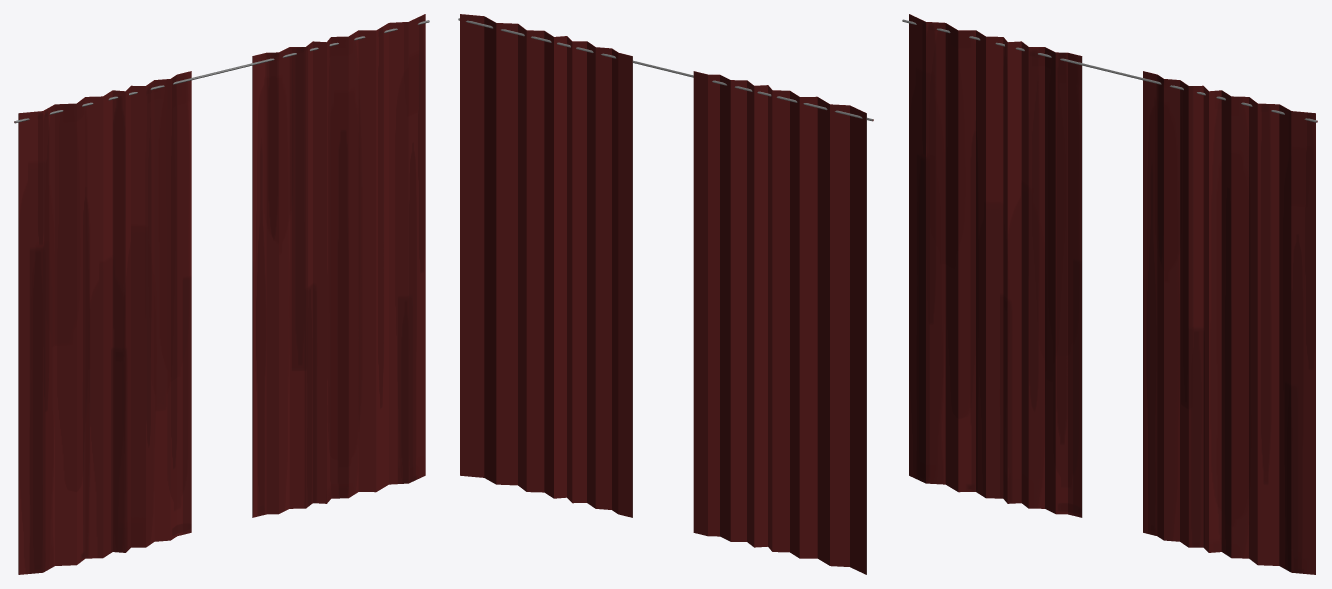
The model's file is TENDA.FBX.
The picture shows the model from 3 angles, left to right: view 1: azimuth 30°, elevation 25°; view 2: azimuth 150°, elevation 25°; view 3: azimuth 330°, elevation 25°; orthographic projection.
Parts seen in each view (by area): view 1: tende 1; view 2: tende 1; view 3: tende 1.
Part boxes in pixels (bbox=[...]): tende 1: bbox=[14, 14, 429, 574]; tende 1: bbox=[458, 14, 873, 574]; tende 1: bbox=[902, 14, 1317, 574].
Size of the model in its own units: 2.04 by 2.17 by 0.0412.
Materials: 1 (1 with a texture image).
